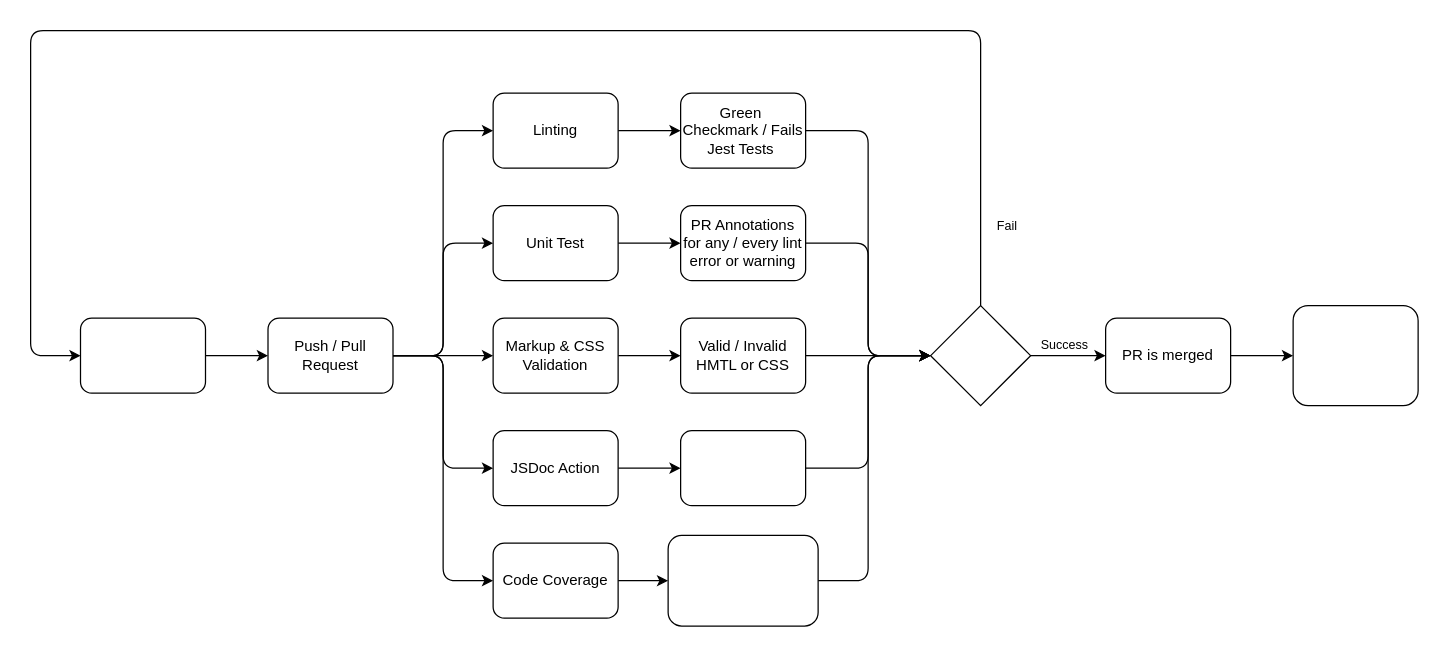
The diagram is 1440 pixels wide and 649 high, and some of its shapes have lost their labels. Each missing label, with the centre of its shape:
"Code" goes at (x=142, y=355).
"Fail / Success" goes at (x=980, y=355).
"Green Checkmark if JSDoc Compiles" goes at (x=742, y=467).
"JSDocs auto-generates documentation for each JS function" goes at (x=1355, y=355).
"Outputs coverage-summary.json, coverage-final.json, and lcov.info" goes at (x=742, y=580).
